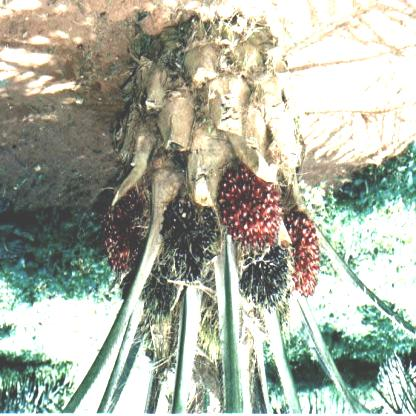1: (216, 162, 282, 252), (99, 195, 149, 273), (285, 214, 322, 301)
palm-oil: (157, 202, 220, 284), (238, 246, 289, 314), (197, 291, 229, 363), (139, 270, 180, 324)
